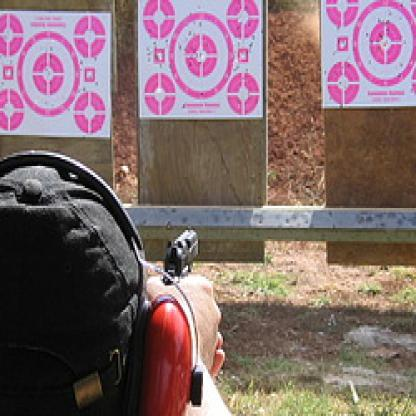gun: (156, 221, 208, 312)
